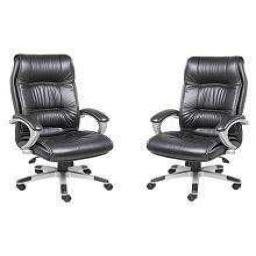Chair: (12, 53, 114, 201), (146, 55, 245, 197)
